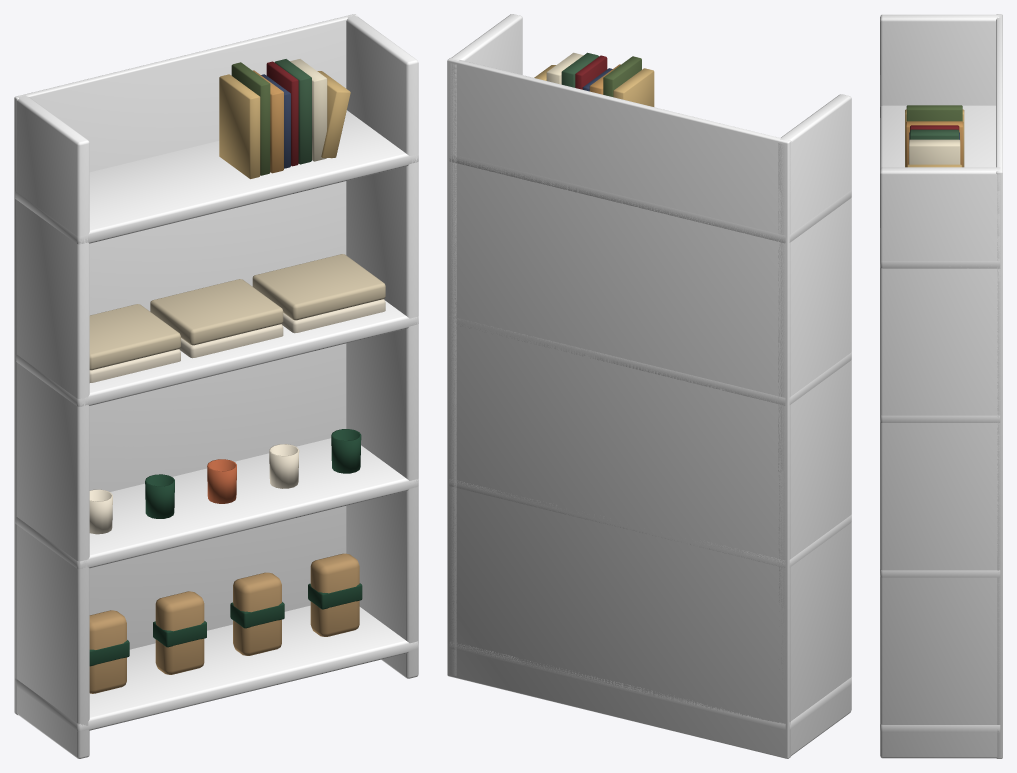
Rendered from SM_MB_MerchShelf.fbx.
3 views of the same model, side by side, from view 1: azimuth 30°, elevation 25°; view 2: azimuth 150°, elevation 25°; view 3: azimuth 270°, elevation 25° (orthographic). The views are drawn at different scales.
Visible parts, largest first — view 1: SM_MB_MerchShelf; view 2: SM_MB_MerchShelf; view 3: SM_MB_MerchShelf.
Part boxes in pixels (bbox=[...]): SM_MB_MerchShelf: bbox=[14, 14, 418, 758]; SM_MB_MerchShelf: bbox=[447, 14, 851, 758]; SM_MB_MerchShelf: bbox=[880, 14, 1002, 758].
Size of the model in its own units: 1.1 by 0.36 by 1.9.
